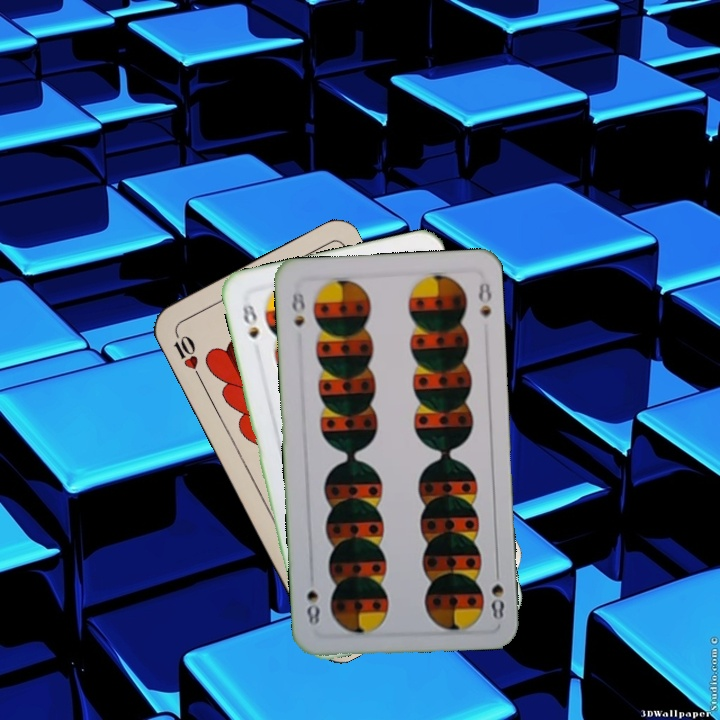H10: (169, 328, 204, 382)
S8: (487, 563, 507, 622), (238, 300, 262, 341), (287, 283, 307, 329)
